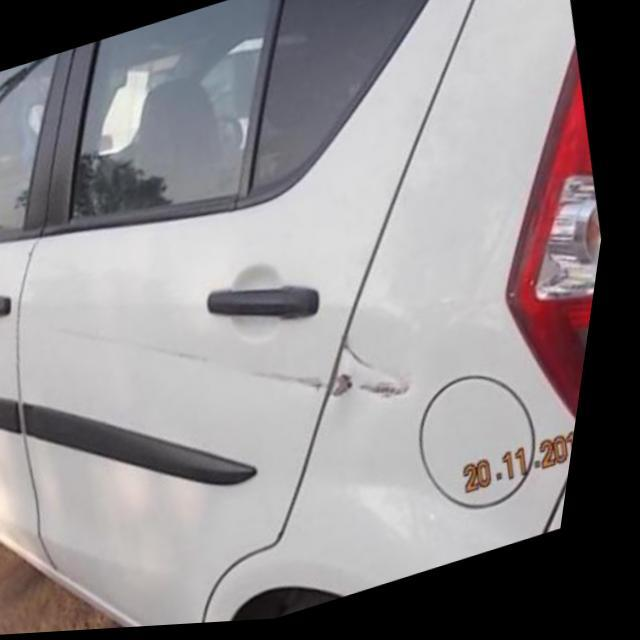crack: (371, 378, 424, 407), (350, 343, 391, 379), (343, 375, 367, 406), (316, 374, 339, 402)
scratch: (63, 322, 319, 393)
